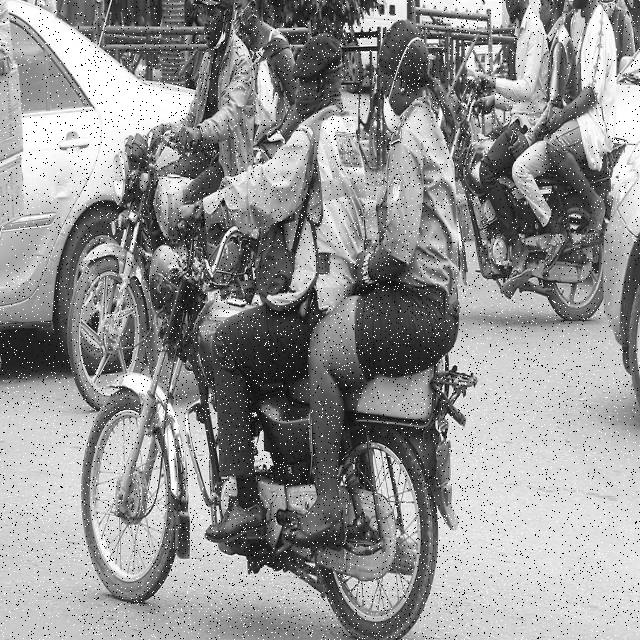Motorbike: (80, 22, 475, 640)
